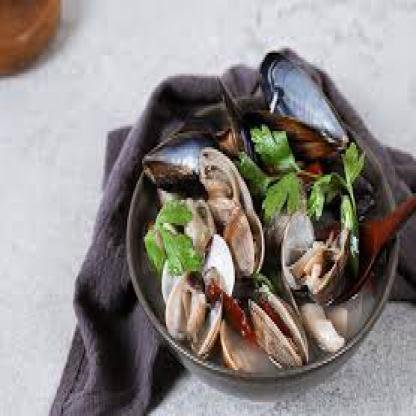shellfish soup: (141, 99, 389, 379)
